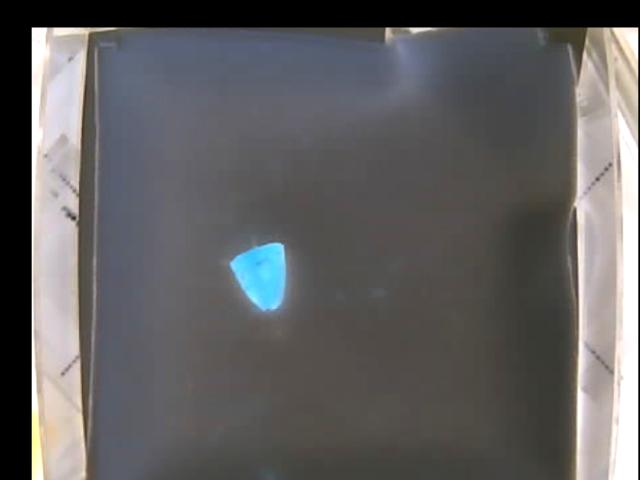Carrot: (231, 241, 286, 309)
